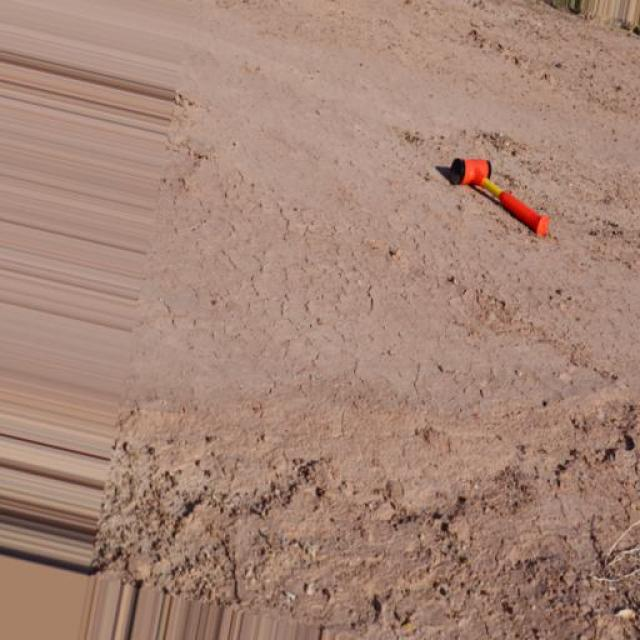mallet: (446, 155, 550, 237)
